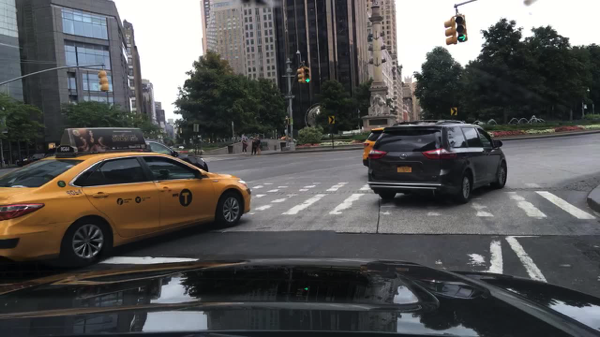car: (1, 128, 251, 271), (368, 119, 510, 202), (146, 138, 210, 174), (361, 128, 385, 167), (16, 154, 44, 169)
person: (250, 136, 258, 157), (254, 137, 263, 155), (241, 137, 249, 154)
traffic light: (455, 16, 468, 44), (444, 18, 456, 46), (97, 70, 109, 93), (296, 68, 303, 86), (304, 67, 311, 85)
traffic sign: (450, 108, 458, 117), (192, 124, 200, 132), (329, 116, 336, 125), (48, 143, 56, 148)
